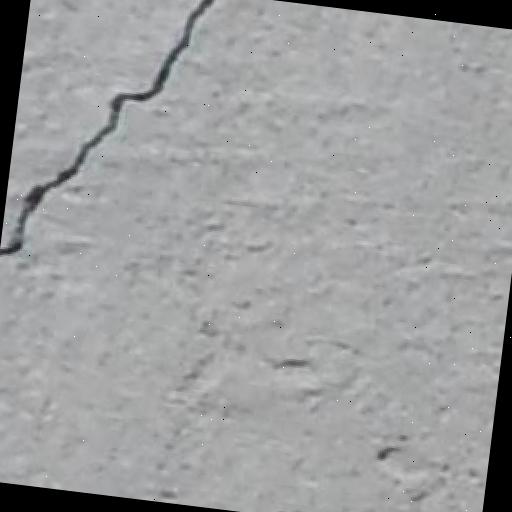spalling: (1, 0, 229, 265)
